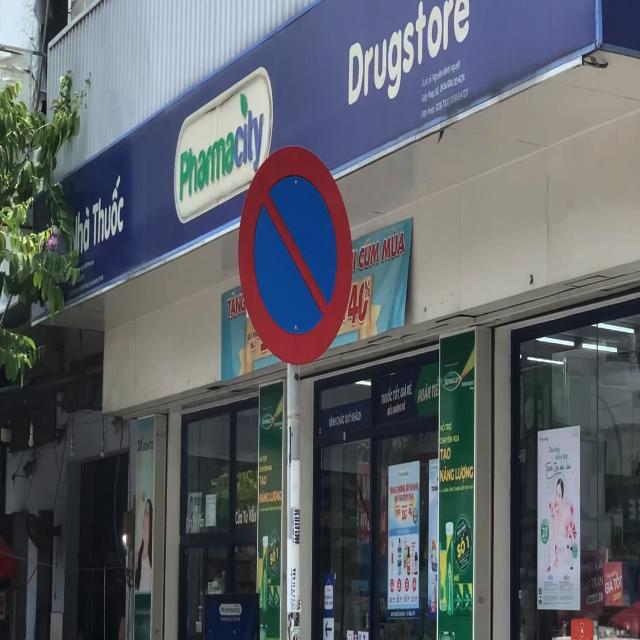Cam do: (238, 144, 354, 368)
